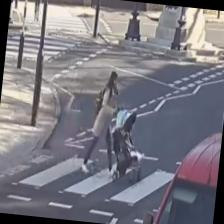person: (80, 69, 125, 177)
